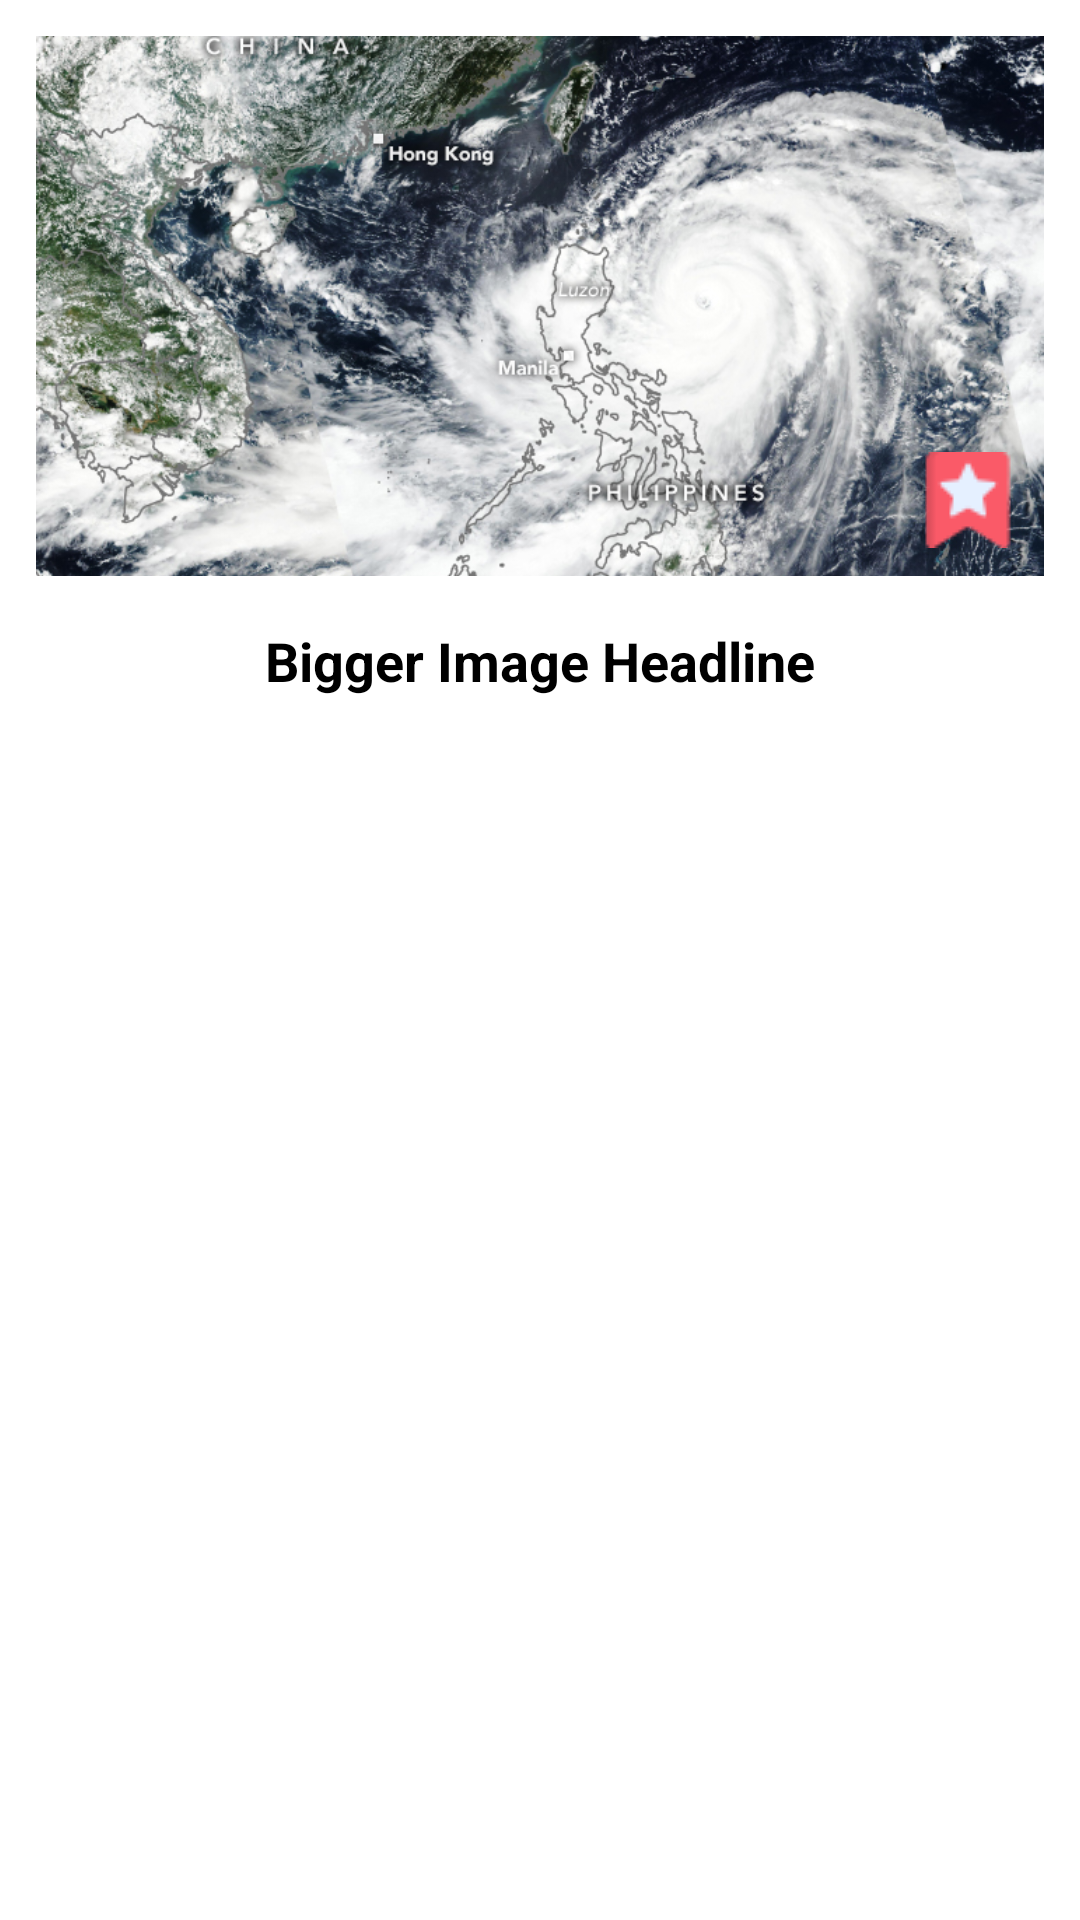

Named icons in this screenshot (1080px×1920px) and their centers, [x,y]:
Favorite: [967,499]
